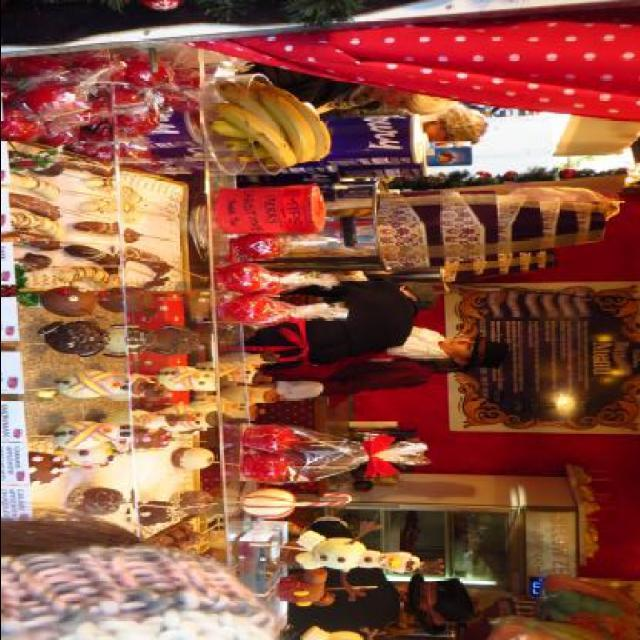Banana: (202, 63, 342, 179), (83, 178, 145, 207), (6, 172, 64, 200), (66, 245, 126, 272), (11, 213, 66, 241), (72, 222, 140, 244), (0, 228, 62, 252), (11, 193, 62, 221), (58, 267, 118, 290), (80, 200, 142, 222), (125, 247, 173, 275), (52, 158, 114, 178), (13, 254, 53, 272)
